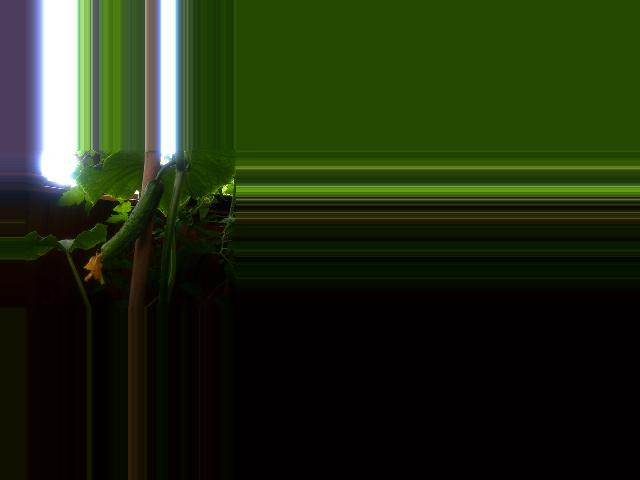cucumber: (82, 180, 163, 285)
